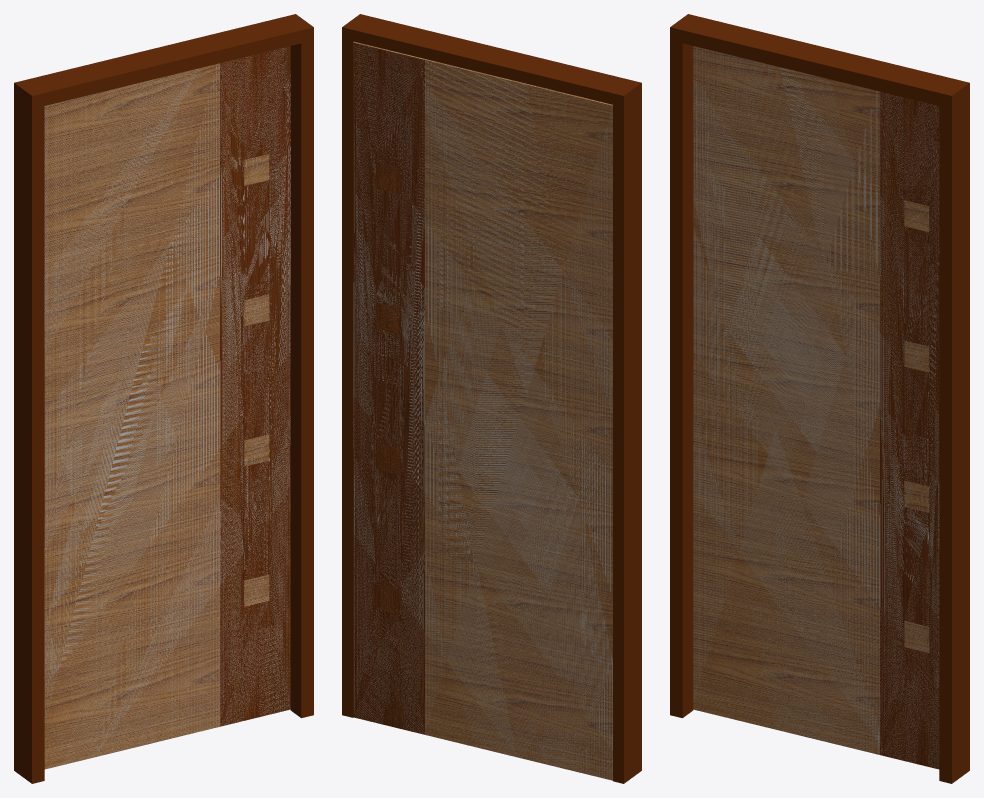
Rendered from door.dae.
3 views of the same model, side by side, from view 1: azimuth 30°, elevation 25°; view 2: azimuth 150°, elevation 25°; view 3: azimuth 330°, elevation 25° (orthographic).
Visible parts, largest first — view 1: group_1 (×6), group_0; view 2: group_1 (×6), group_0; view 3: group_1 (×6), group_0.
Part boxes in pixels (bbox=[...]): group_1 (×6): bbox=[44, 46, 290, 769]; group_0: bbox=[14, 14, 313, 783]; group_1 (×6): bbox=[353, 41, 612, 780]; group_0: bbox=[342, 14, 641, 783]; group_1 (×6): bbox=[693, 46, 939, 769]; group_0: bbox=[670, 14, 969, 783].
Size of the model in its own units: 35.43 by 3.94 by 82.68.
